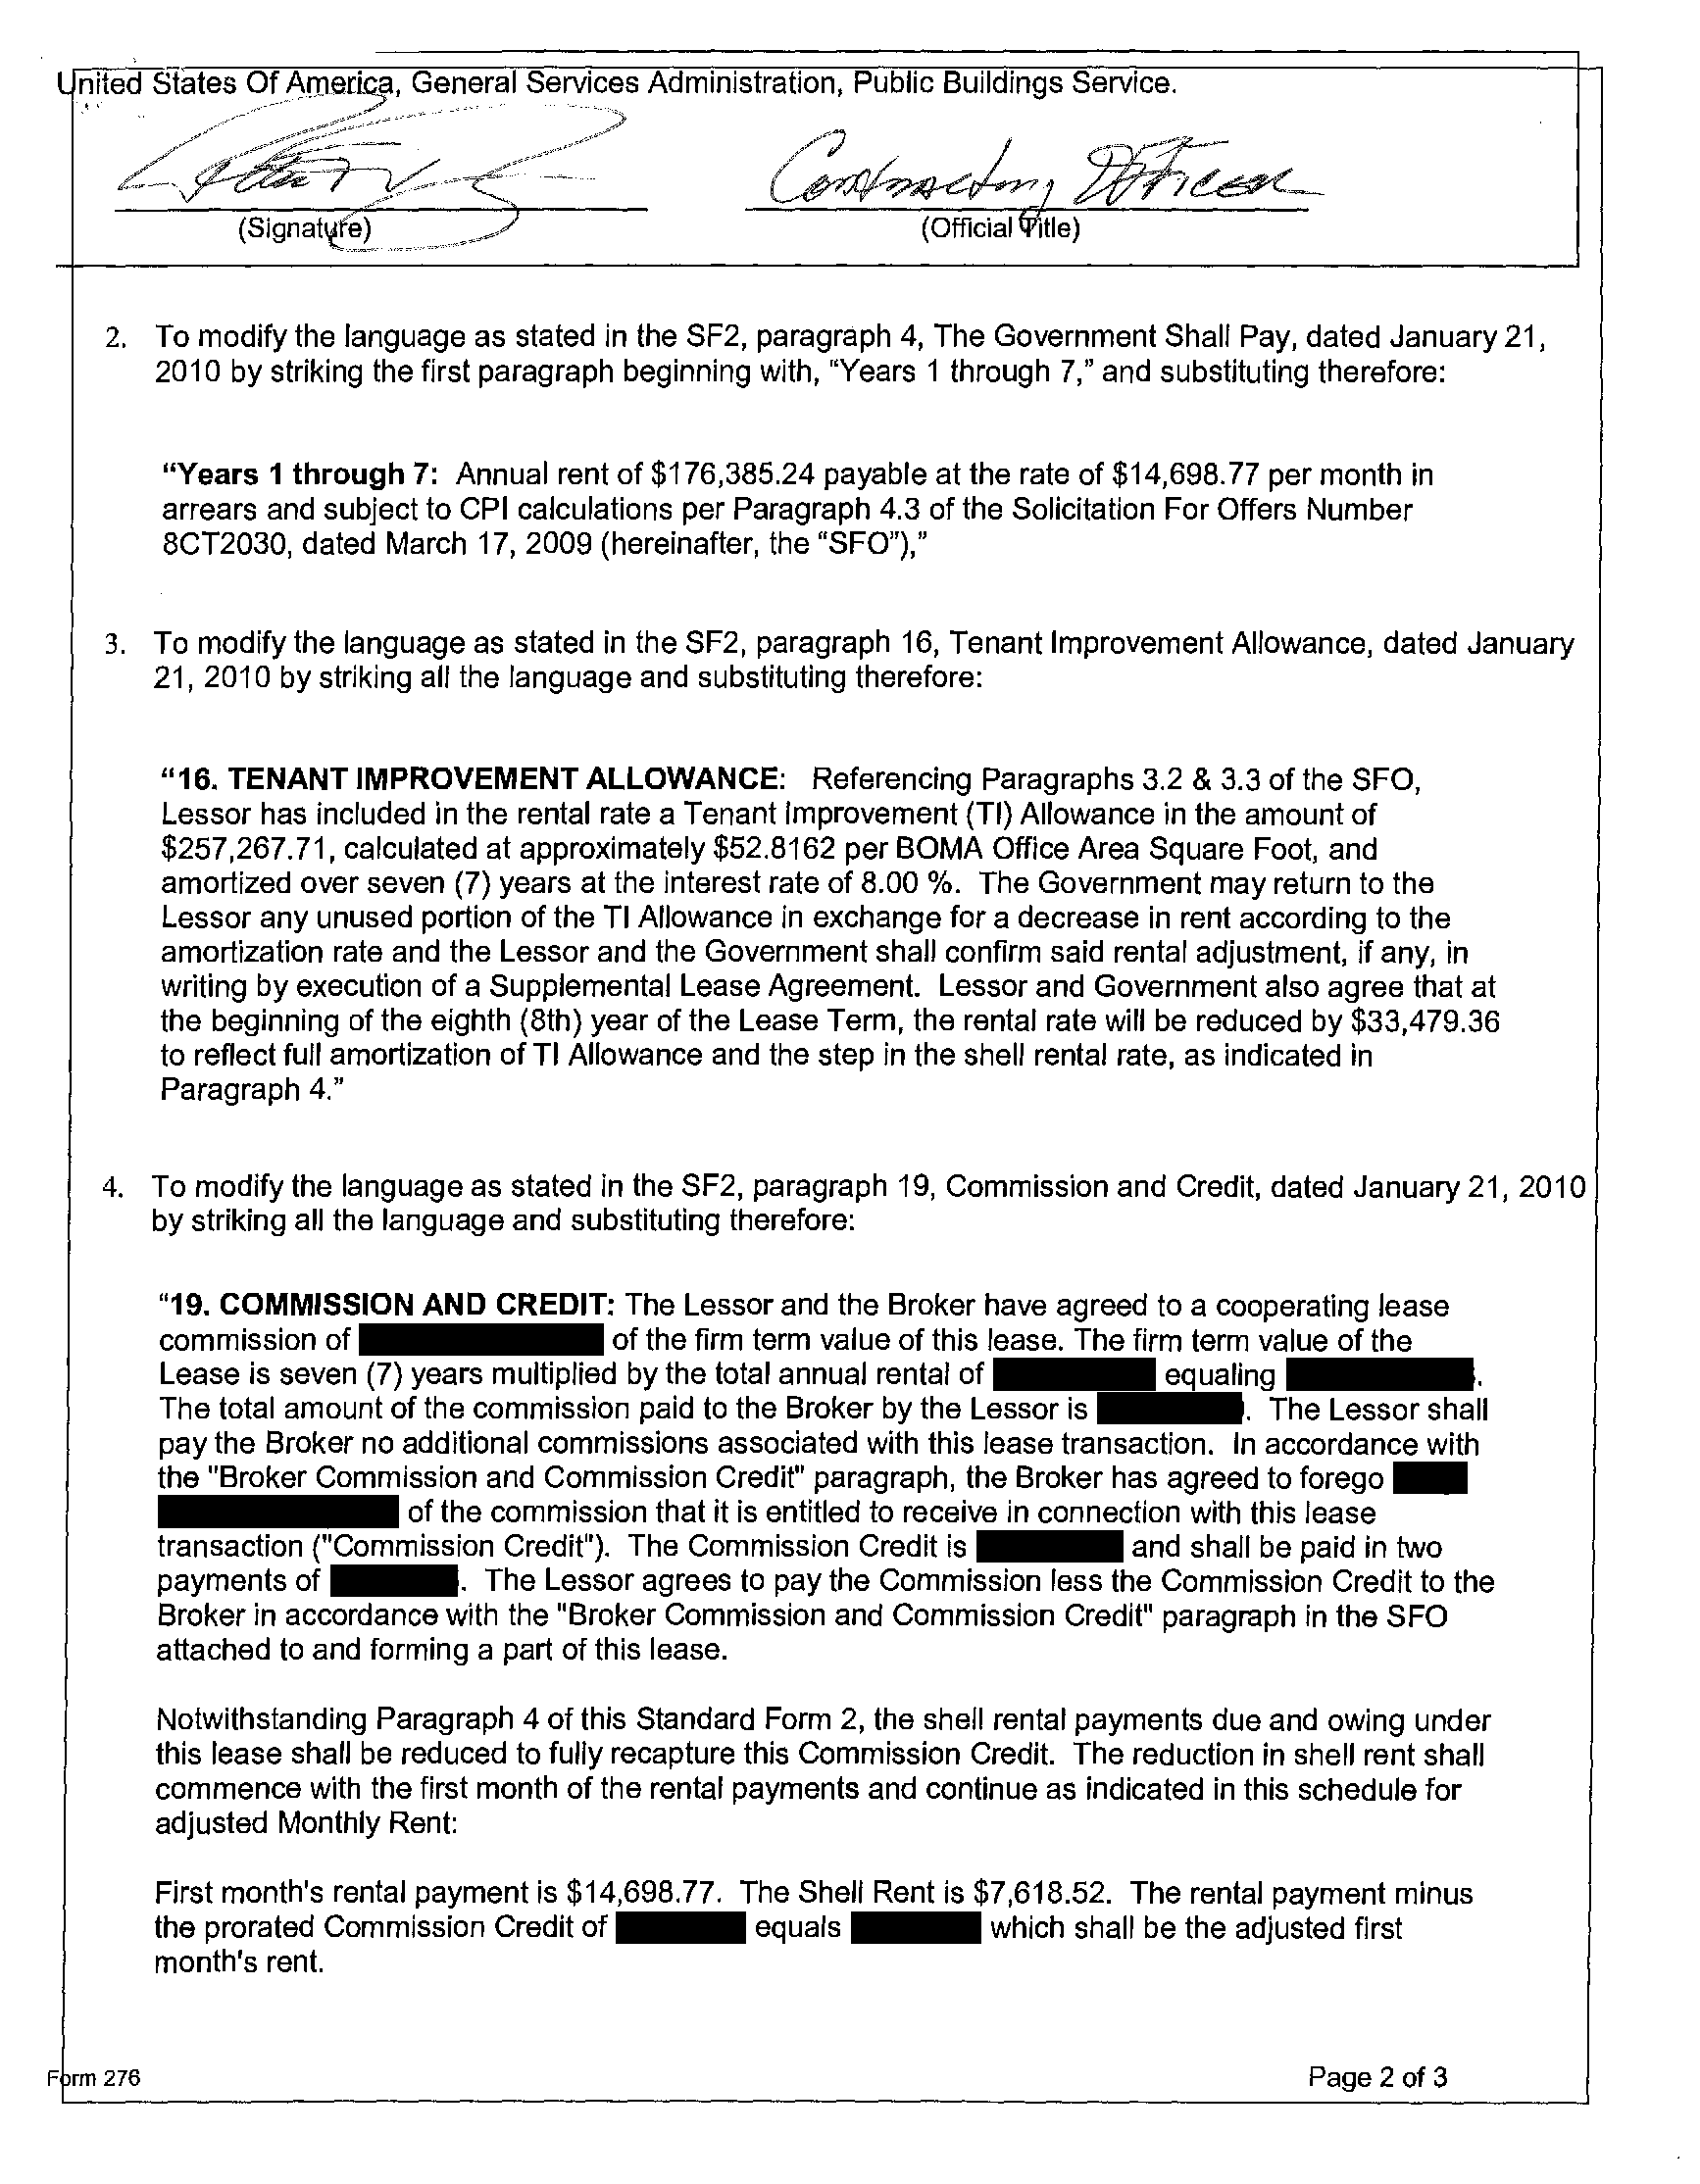handwritten: (739, 113, 1354, 213), (119, 105, 656, 207), (369, 214, 558, 264)
